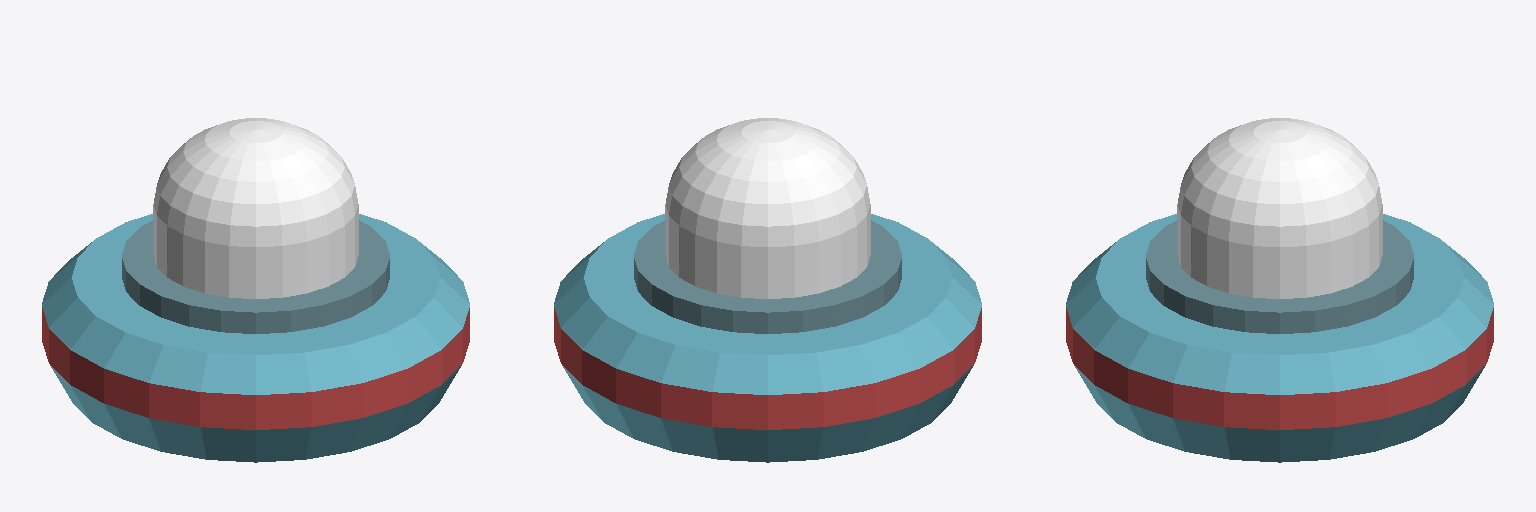
File: enemy_ufoRed.obj
3 renders of one model, left to right at view 1: azimuth 30°, elevation 25°; view 2: azimuth 150°, elevation 25°; view 3: azimuth 270°, elevation 25°, orthographic.
Visible parts, largest first — view 1: enemy_ufoRed; view 2: enemy_ufoRed; view 3: enemy_ufoRed.
Boxes of the visible parts, <box> form: enemy_ufoRed: <box>42,118,469,462</box>; enemy_ufoRed: <box>554,118,981,462</box>; enemy_ufoRed: <box>1066,118,1493,462</box>.
Size of the model in its own units: 1 by 0.6505 by 1.